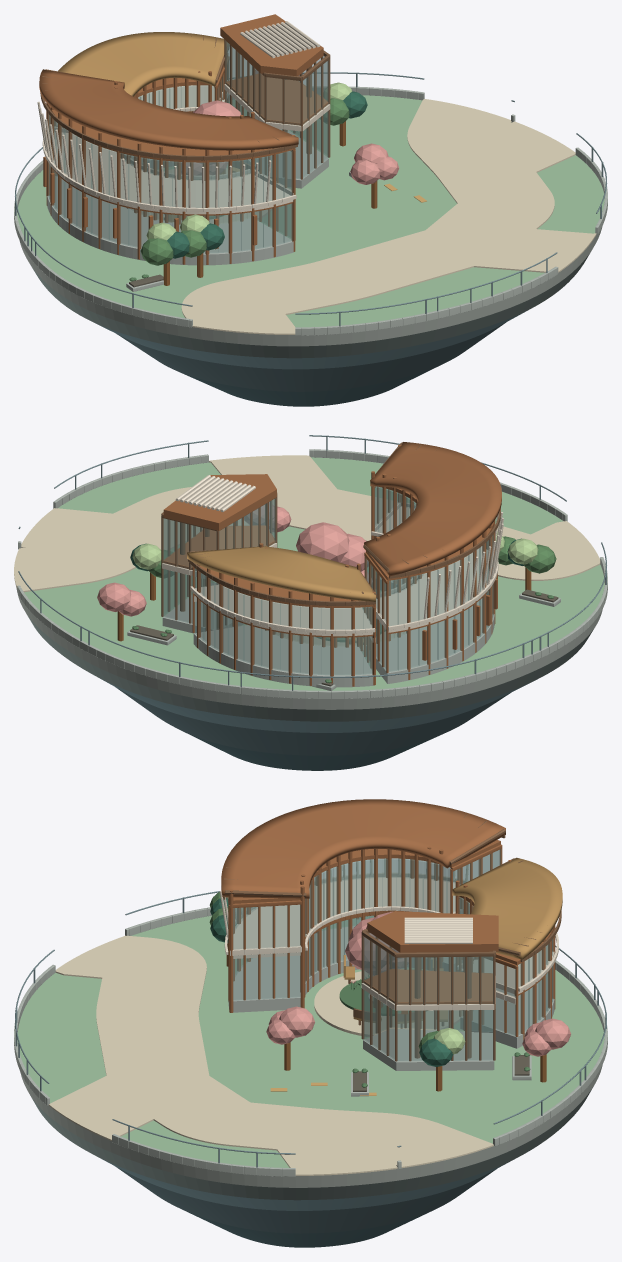
3 renders of one model, top to bottom at view 1: azimuth 30°, elevation 25°; view 2: azimuth 150°, elevation 25°; view 3: azimuth 270°, elevation 25°, orthographic. The views are drawn at different scales.
Visible parts, largest first — view 1: ROLE_terrain_Components__grass, ROLE_paving_Components__paveLight, ROLE_building_Components__careGlass, ROLE_building_Components__careRoof, ROLE_building_Components__careLinen, ROLE_roof_Components__careRoof, ROLE_building_Components__stone2, ROLE_roof_Components__warmwood, ROLE_terrain_Components__cliff2, ROLE_terrain_Components__stone2, ROLE_terrain_Components__cliff3, ROLE_rails_Components__stone2 (+10 smaller); view 2: ROLE_terrain_Components__grass, ROLE_building_Components__careGlass, ROLE_paving_Components__paveLight, ROLE_building_Components__careRoof, ROLE_roof_Components__careRoof, ROLE_building_Components__careLinen, ROLE_building_Components__stone2, ROLE_rails_Components__stone2, ROLE_terrain_Components__cliff2, ROLE_terrain_Components__cliff3, ROLE_terrain_Components__stone2, ROLE_roof_Components__warmwood (+11 smaller); view 3: ROLE_terrain_Components__grass, ROLE_paving_Components__paveLight, ROLE_building_Components__careGlass, ROLE_roof_Components__careRoof, ROLE_building_Components__careRoof, ROLE_building_Components__careLinen, ROLE_building_Components__stone2, ROLE_terrain_Components__stone2, ROLE_roof_Components__warmwood, ROLE_terrain_Components__cliff3, ROLE_terrain_Components__cliff2, ROLE_building_Components__copperdark (+9 smaller).
Boxes of the visible parts, box(x1,y1,x2,y2) form: ROLE_terrain_Components__grass: box(17, 95, 604, 327); ROLE_paving_Components__paveLight: box(132, 99, 596, 334); ROLE_building_Components__careGlass: box(48, 40, 328, 253); ROLE_building_Components__careRoof: box(43, 53, 328, 264); ROLE_building_Components__careLinen: box(37, 21, 330, 214); ROLE_roof_Components__careRoof: box(39, 14, 323, 150); ROLE_building_Components__stone2: box(47, 129, 328, 265); ROLE_roof_Components__warmwood: box(58, 32, 227, 96); ROLE_terrain_Components__cliff2: box(117, 322, 505, 391); ROLE_terrain_Components__stone2: box(19, 226, 602, 346); ROLE_terrain_Components__cliff3: box(31, 252, 590, 358); ROLE_rails_Components__stone2: box(14, 86, 607, 335); ROLE_terrain_Components__grass: box(24, 457, 604, 690); ROLE_building_Components__careGlass: box(163, 486, 493, 675); ROLE_paving_Components__paveLight: box(14, 455, 600, 651); ROLE_building_Components__careRoof: box(163, 444, 497, 686); ROLE_roof_Components__careRoof: box(163, 442, 501, 576); ROLE_building_Components__careLinen: box(162, 475, 503, 642); ROLE_building_Components__stone2: box(162, 577, 494, 687); ROLE_rails_Components__stone2: box(17, 449, 607, 698); ROLE_terrain_Components__cliff2: box(115, 687, 510, 755); ROLE_terrain_Components__cliff3: box(26, 614, 593, 721); ROLE_terrain_Components__stone2: box(16, 586, 602, 709); ROLE_roof_Components__warmwood: box(187, 546, 375, 601); ROLE_terrain_Components__grass: box(17, 915, 604, 1167); ROLE_paving_Components__paveLight: box(48, 935, 493, 1175); ROLE_building_Components__careGlass: box(233, 849, 553, 1061); ROLE_roof_Components__careRoof: box(221, 799, 505, 952); ROLE_building_Components__careRoof: box(228, 840, 555, 1040); ROLE_building_Components__careLinen: box(219, 858, 558, 1010); ROLE_building_Components__stone2: box(228, 926, 554, 1070); ROLE_terrain_Components__stone2: box(20, 1065, 602, 1187); ROLE_roof_Components__warmwood: box(452, 857, 562, 959); ROLE_terrain_Components__cliff3: box(30, 1086, 593, 1200); ROLE_terrain_Components__cliff2: box(115, 1166, 496, 1233); ROLE_building_Components__copperdark: box(361, 928, 495, 1061).
Bounding box in the file's own units: 29.84 × 15.15 × 27.84.
